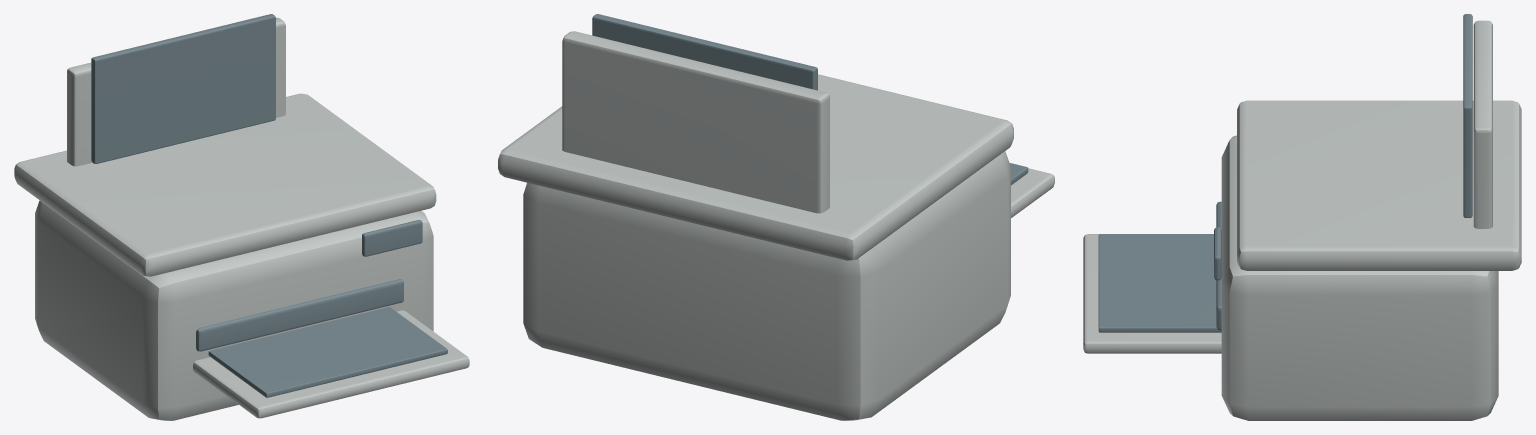
Rendered from printer.glb.
The picture shows the model from 3 angles, left to right: view 1: azimuth 30°, elevation 25°; view 2: azimuth 150°, elevation 25°; view 3: azimuth 270°, elevation 25°; orthographic projection. The views are drawn at different scales.
Visible parts, largest first — view 1: scanner_lid, printer_body, paper_stack, output_paper, output_tray, paper_output_slot, paper_input_back, control_display; view 2: printer_body, scanner_lid, paper_input_back, paper_stack, output_tray; view 3: scanner_lid, printer_body, output_paper, output_tray, paper_input_back, paper_stack, paper_output_slot, control_display.
Boxes of the visible parts, box(x1,y1,x2,y2) form: scanner_lid: box(14, 93, 436, 276); printer_body: box(35, 200, 433, 420); paper_stack: box(91, 14, 275, 163); output_paper: box(208, 307, 447, 397); output_tray: box(193, 310, 469, 418); paper_output_slot: box(196, 279, 403, 351); paper_input_back: box(67, 17, 285, 166); control_display: box(362, 220, 422, 256); printer_body: box(523, 151, 1010, 420); scanner_lid: box(498, 74, 1013, 260); paper_input_back: box(562, 31, 829, 213); paper_stack: box(592, 14, 817, 90); output_tray: box(1011, 168, 1054, 217); scanner_lid: box(1237, 100, 1521, 270); printer_body: box(1221, 135, 1498, 420); output_paper: box(1098, 234, 1221, 332); output_tray: box(1083, 234, 1221, 353); paper_input_back: box(1473, 20, 1492, 228); paper_stack: box(1463, 14, 1472, 217); paper_output_slot: box(1216, 201, 1221, 330); control_display: box(1214, 227, 1221, 280).
Size of the model in its own units: 0.47 by 0.425 by 0.57.
